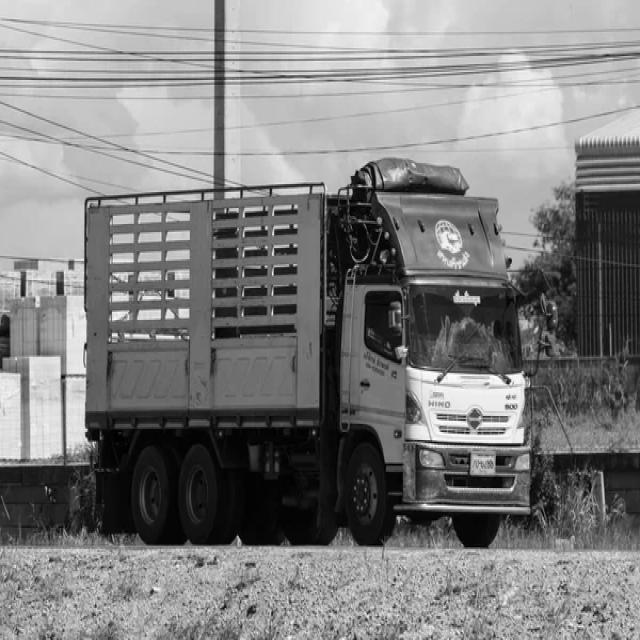Truck: (85, 158, 532, 548)
